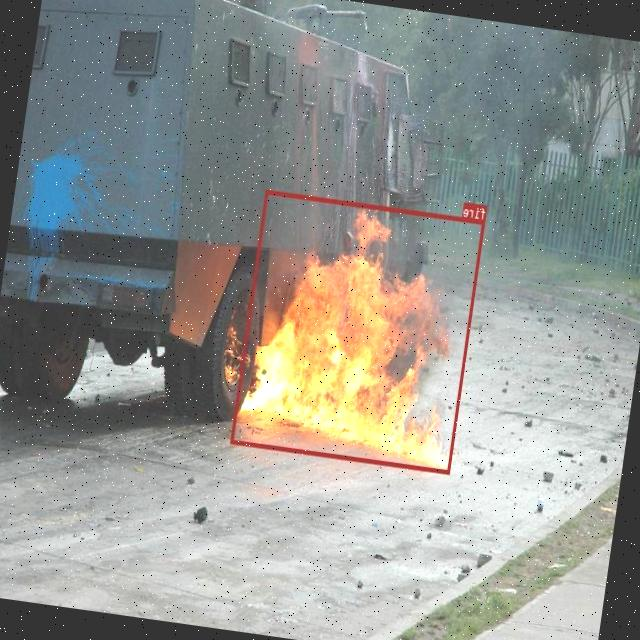fire: (231, 189, 486, 473)
